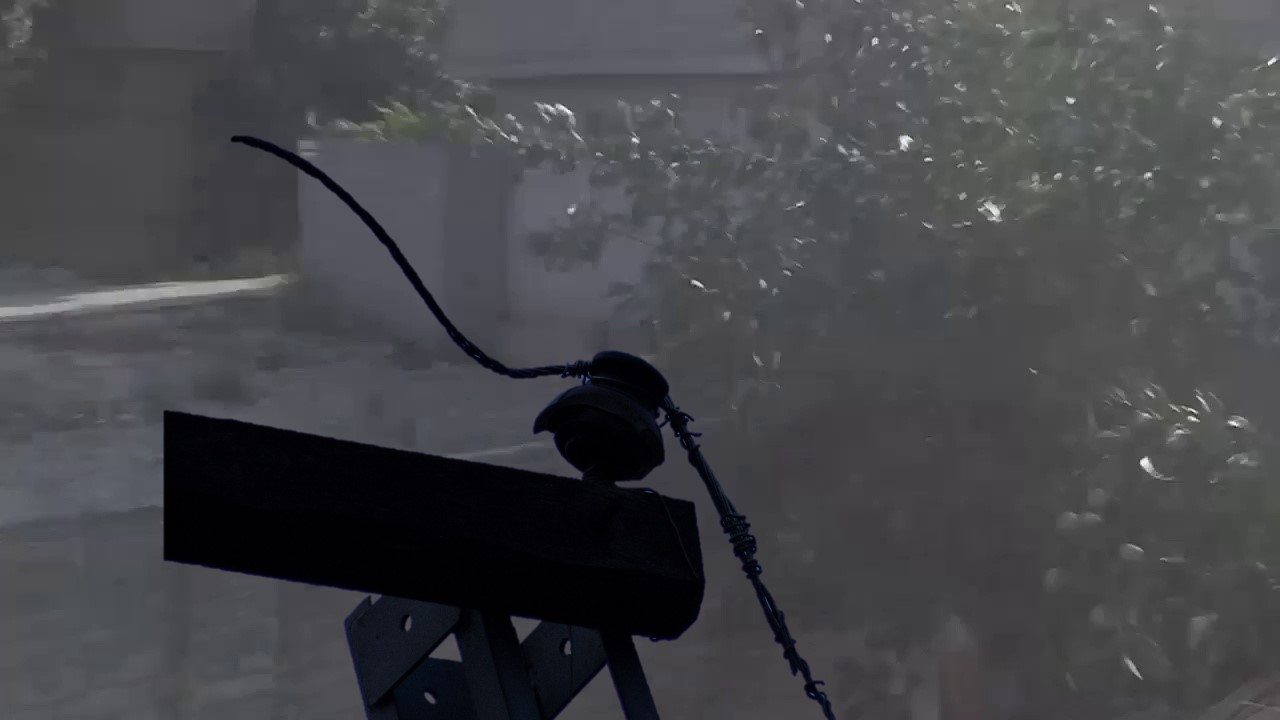defect_pin: (531, 344, 681, 488)
